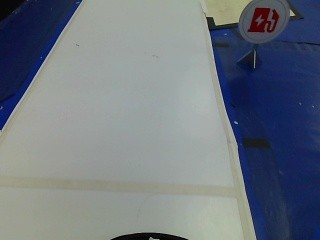battery: (240, 0, 288, 43)
